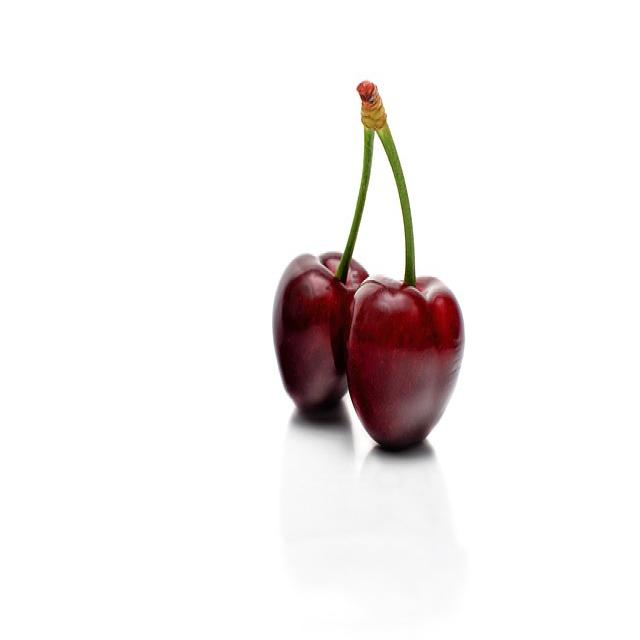cherry: (270, 77, 467, 452)
